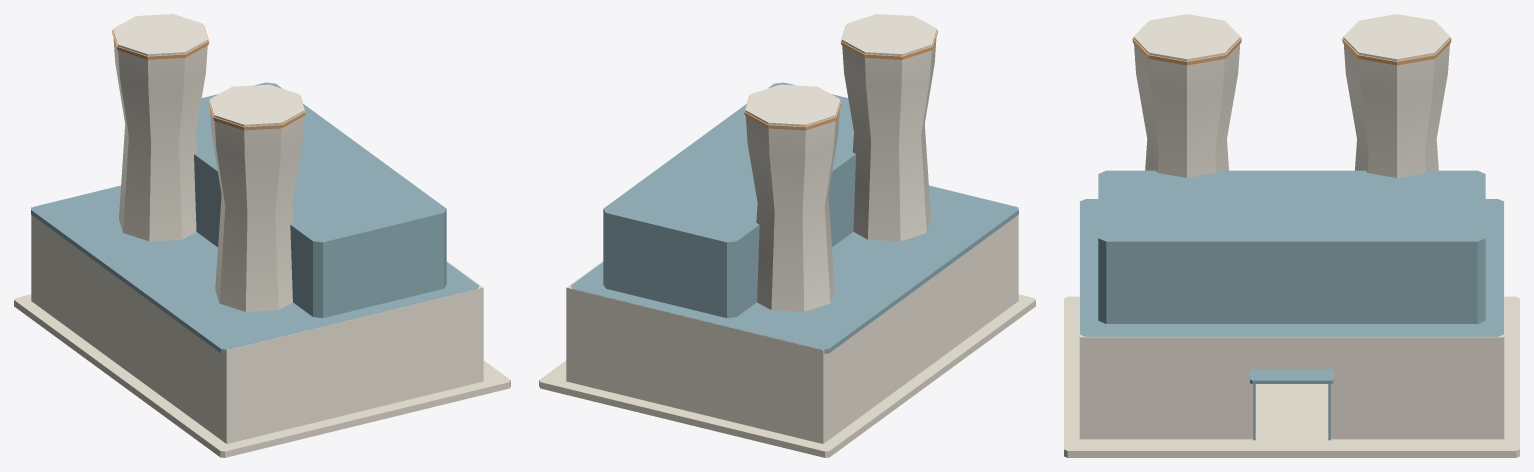
File: Colony_AtmoRefinery_v4_ShadowProxy.glb
3 renders of one model, left to right at view 1: azimuth 30°, elevation 25°; view 2: azimuth 150°, elevation 25°; view 3: azimuth 270°, elevation 25°, orthographic. The views are drawn at different scales.
Parts seen in each view (by area): view 1: Colony_AtmoRefinery_v4_ShadowProxy / Structure, Colony_AtmoRefinery_v4_ShadowProxy / Cooling stacks, Colony_AtmoRefinery_v4_ShadowProxy / Plant room, Colony_AtmoRefinery_v4_ShadowProxy / Equipment deck, Colony_AtmoRefinery_v4_ShadowProxy / Foundation; view 2: Colony_AtmoRefinery_v4_ShadowProxy / Structure, Colony_AtmoRefinery_v4_ShadowProxy / Cooling stacks, Colony_AtmoRefinery_v4_ShadowProxy / Plant room, Colony_AtmoRefinery_v4_ShadowProxy / Equipment deck, Colony_AtmoRefinery_v4_ShadowProxy / Foundation; view 3: Colony_AtmoRefinery_v4_ShadowProxy / Plant room, Colony_AtmoRefinery_v4_ShadowProxy / Structure, Colony_AtmoRefinery_v4_ShadowProxy / Cooling stacks, Colony_AtmoRefinery_v4_ShadowProxy / Foundation, Colony_AtmoRefinery_v4_ShadowProxy / Equipment deck, Colony_AtmoRefinery_v4_ShadowProxy / Entrance modules.
Part boxes in pixels (left/top/right/bottom): Colony_AtmoRefinery_v4_ShadowProxy / Structure: left=31, top=207, right=483, bottom=443; Colony_AtmoRefinery_v4_ShadowProxy / Cooling stacks: left=112, top=14, right=305, bottom=311; Colony_AtmoRefinery_v4_ShadowProxy / Plant room: left=194, top=82, right=446, bottom=318; Colony_AtmoRefinery_v4_ShadowProxy / Equipment deck: left=31, top=185, right=478, bottom=353; Colony_AtmoRefinery_v4_ShadowProxy / Foundation: left=14, top=294, right=510, bottom=457; Colony_AtmoRefinery_v4_ShadowProxy / Structure: left=566, top=207, right=1018, bottom=443; Colony_AtmoRefinery_v4_ShadowProxy / Cooling stacks: left=744, top=14, right=937, bottom=311; Colony_AtmoRefinery_v4_ShadowProxy / Plant room: left=603, top=82, right=855, bottom=318; Colony_AtmoRefinery_v4_ShadowProxy / Equipment deck: left=571, top=185, right=1018, bottom=353; Colony_AtmoRefinery_v4_ShadowProxy / Foundation: left=539, top=294, right=1035, bottom=457; Colony_AtmoRefinery_v4_ShadowProxy / Plant room: left=1098, top=170, right=1485, bottom=323; Colony_AtmoRefinery_v4_ShadowProxy / Structure: left=1079, top=201, right=1504, bottom=439; Colony_AtmoRefinery_v4_ShadowProxy / Cooling stacks: left=1132, top=14, right=1451, bottom=177; Colony_AtmoRefinery_v4_ShadowProxy / Foundation: left=1064, top=296, right=1519, bottom=457; Colony_AtmoRefinery_v4_ShadowProxy / Equipment deck: left=1080, top=199, right=1503, bottom=336; Colony_AtmoRefinery_v4_ShadowProxy / Entrance modules: left=1250, top=369, right=1333, bottom=453.
Size of the model in its own units: 16 by 15.28 by 20.
